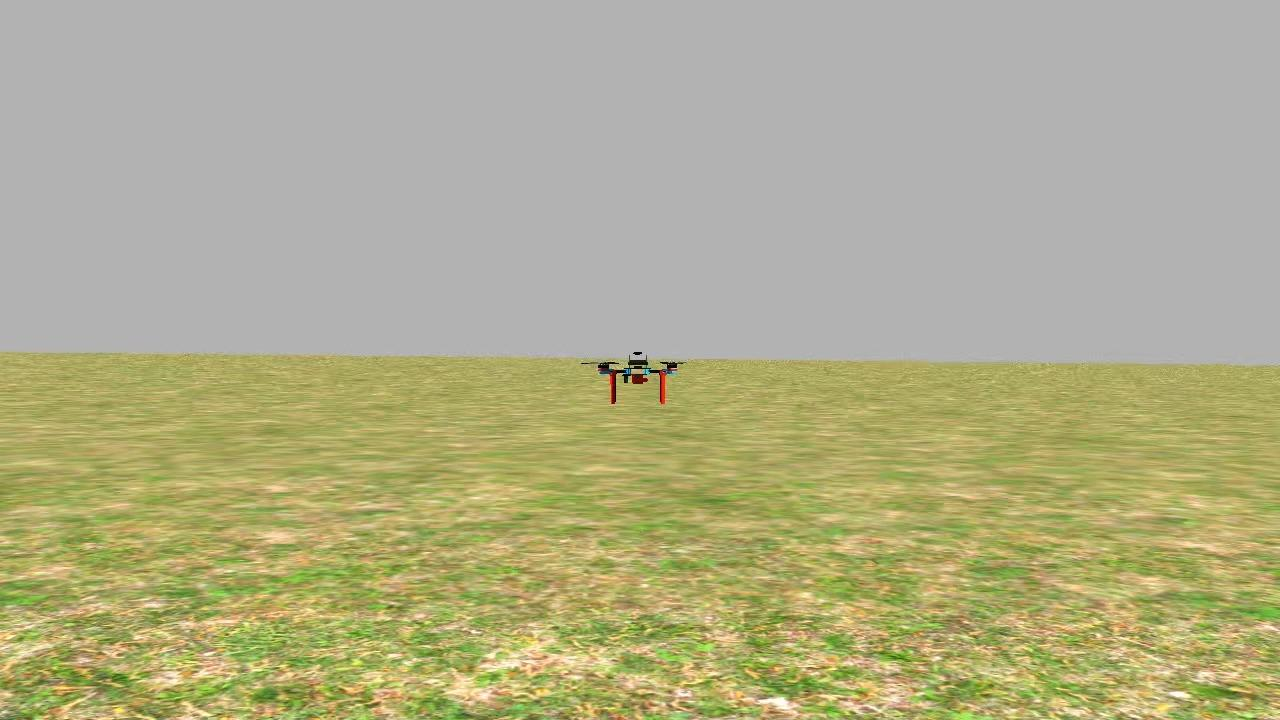UAV: (584, 340, 684, 411)
